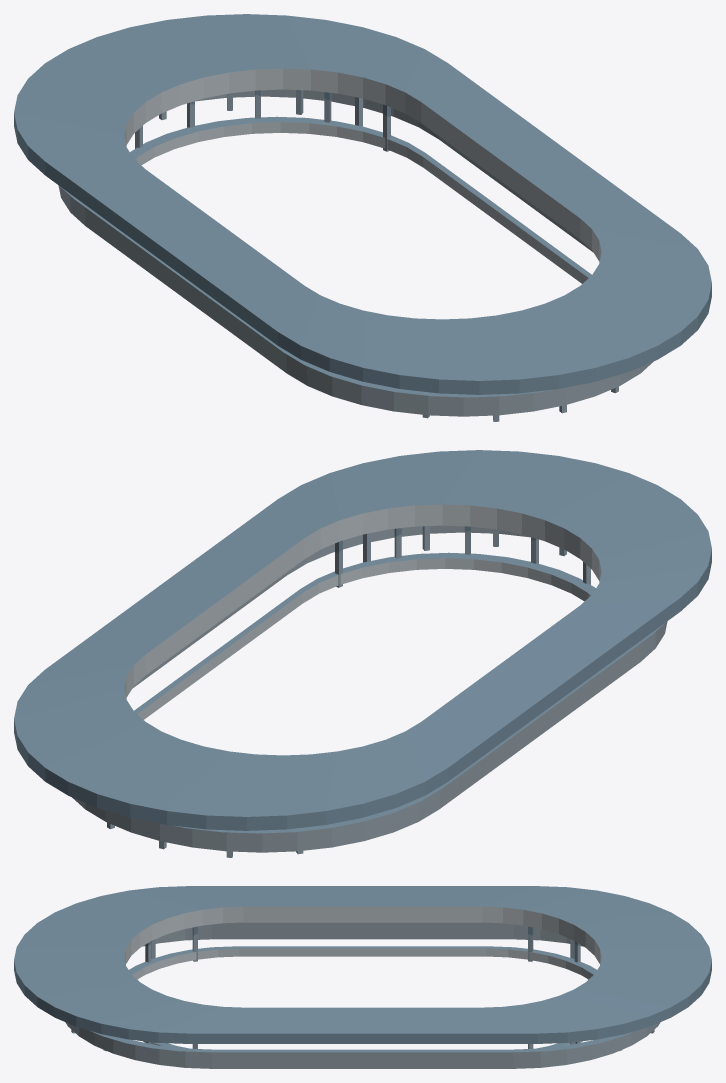
Rendered from Mesh_Battle_Match_Build_01.fbx.
3 views of the same model, one above another, from view 1: azimuth 30°, elevation 25°; view 2: azimuth 150°, elevation 25°; view 3: azimuth 270°, elevation 25° (orthographic). The views are drawn at different scales.
Visible parts, largest first — view 1: Mesh_Battle_Match_Build_01; view 2: Mesh_Battle_Match_Build_01; view 3: Mesh_Battle_Match_Build_01.
Boxes of the visible parts, x1,y1,x2,y2 form: Mesh_Battle_Match_Build_01: (14,14,711,421); Mesh_Battle_Match_Build_01: (14,450,711,857); Mesh_Battle_Match_Build_01: (14,886,711,1068).
Size of the model in its own units: 28701 by 4849 by 57403.
